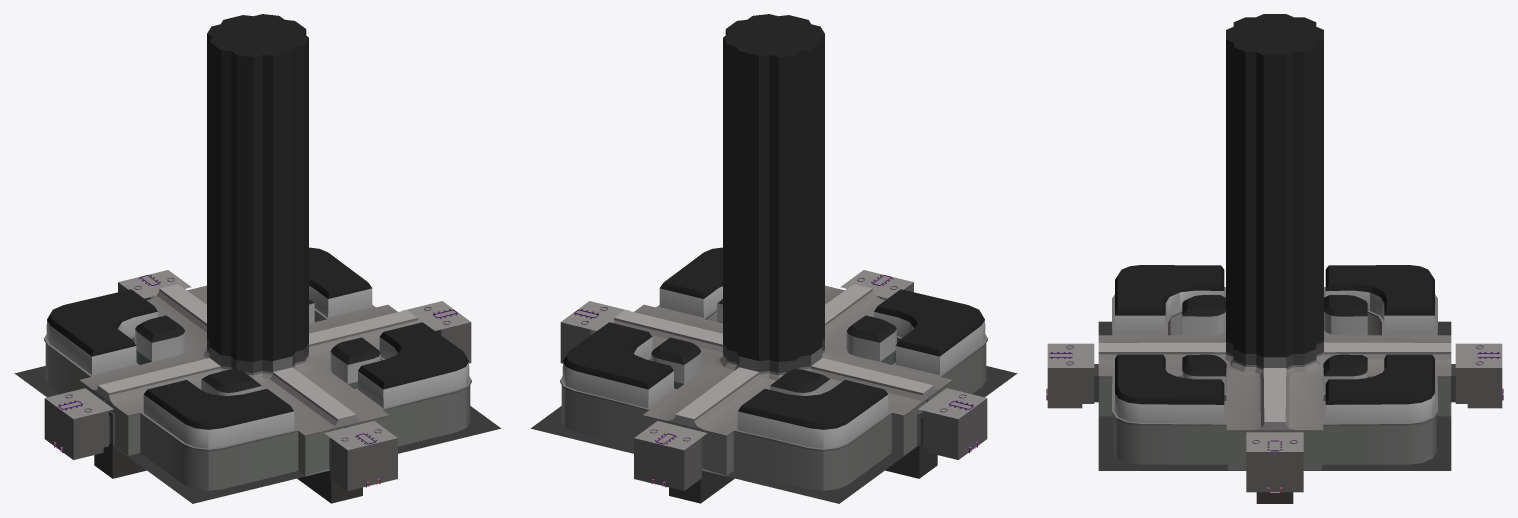
File: Arena.fbx
3 renders of one model, left to right at view 1: azimuth 30°, elevation 25°; view 2: azimuth 150°, elevation 25°; view 3: azimuth 270°, elevation 25°, orthographic.
Parts seen in each view (by area): view 1: top, body.001, body; view 2: top, body.001, body; view 3: top, body.001, body.
Boxes of the visible parts, <box> form: top: <box>44,14,471,450</box>; body.001: <box>44,282,471,490</box>; body: <box>14,366,500,503</box>; top: <box>560,14,987,450</box>; body.001: <box>560,282,987,490</box>; body: <box>531,366,1017,503</box>; top: <box>1047,14,1502,451</box>; body.001: <box>1047,312,1502,492</box>; body: <box>1098,321,1451,503</box>.
Bounding box in the file's own units: 5871 × 5788 × 5871.
